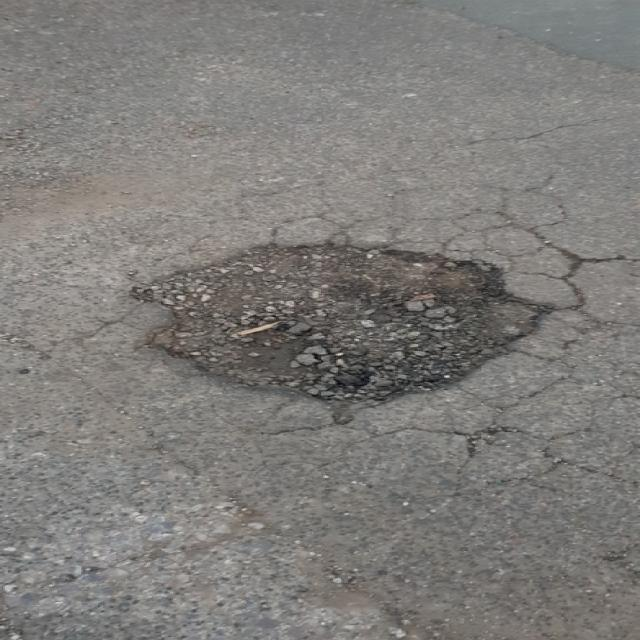Pothole: (112, 235, 563, 426)
